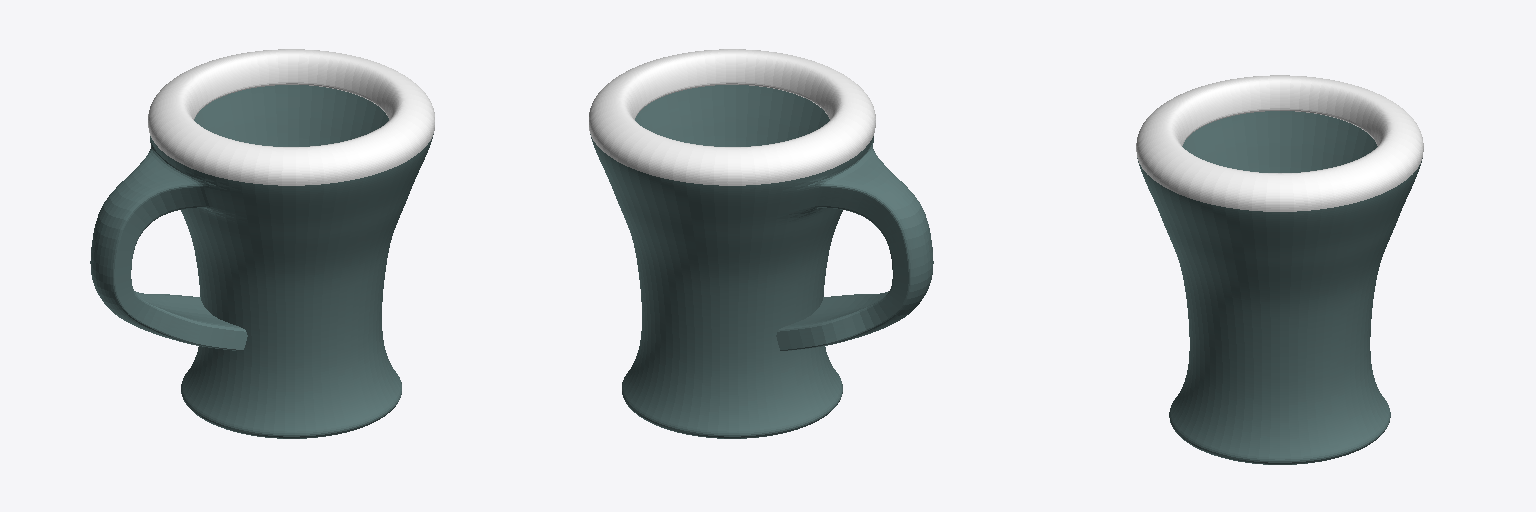
Rendered from Mug.obj.
3 views of the same model, side by side, from view 1: azimuth 30°, elevation 25°; view 2: azimuth 150°, elevation 25°; view 3: azimuth 270°, elevation 25° (orthographic).
Parts seen in each view (by area): view 1: MUG; view 2: MUG; view 3: MUG.
Boxes of the visible parts, x1,y1,x2,y2 form: MUG: [90, 49, 434, 438]; MUG: [589, 49, 933, 438]; MUG: [1136, 75, 1423, 464].
Size of the model in its own units: 5.64 by 4.94 by 4.38.